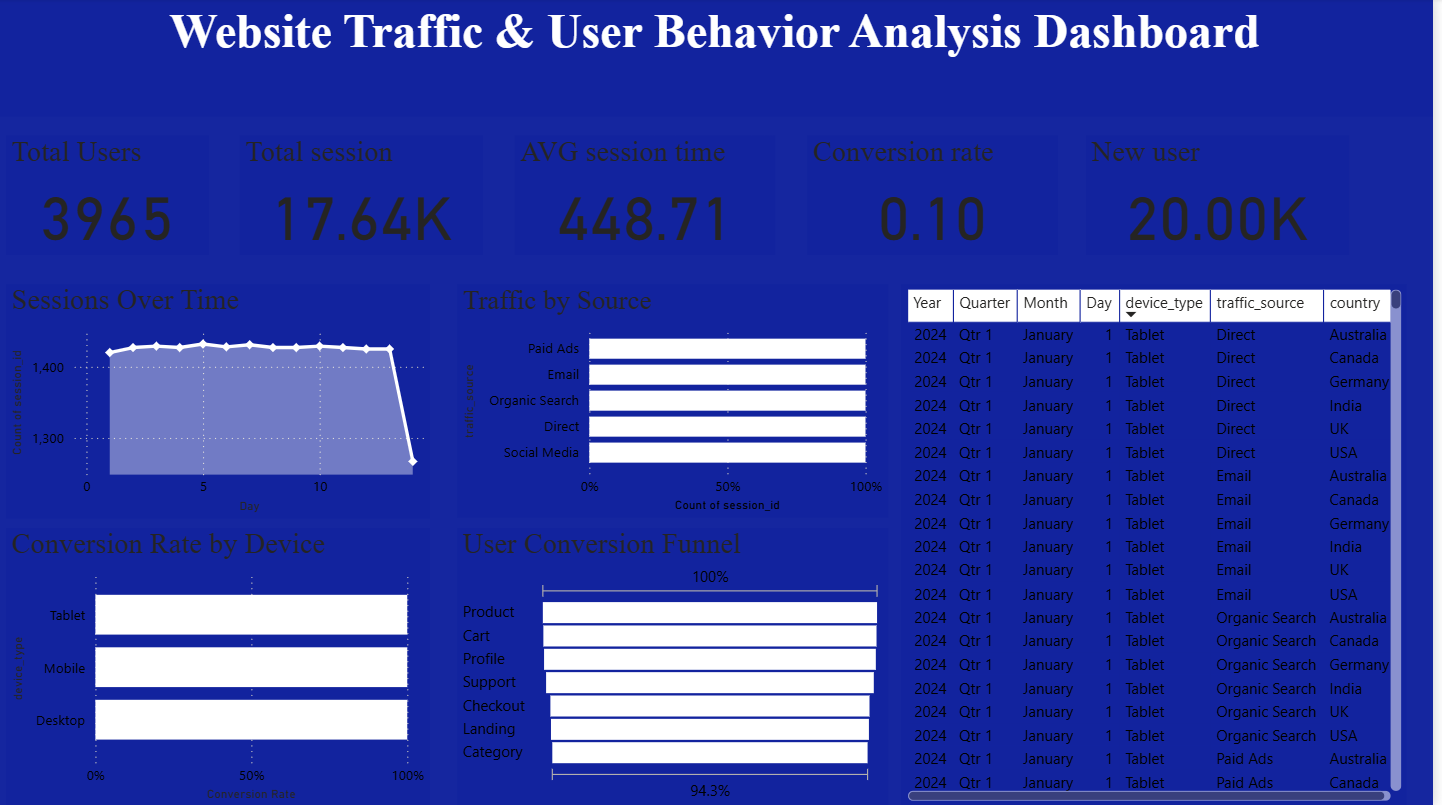

The page's visual inventory and layout, read from the dashboard file:
{"tool":"powerbi","page":{"name":"Page 1","canvas":[1280,720],"ordinal":0},"visuals":[{"type":"card","title":"Total Users","fields":{"Values":["Count(clean_website_traffic.user_id)"]},"box":[8.4,122.2,181,106.7],"z":0},{"type":"card","title":"Total session","fields":{"Values":["Count(clean_website_traffic.session_id)"]},"box":[217.2,122.7,217.2,106.7],"z":1},{"type":"card","title":"AVG session time","fields":{"Values":["clean_website_traffic.Avg Session Time"]},"box":[461.7,122.6,232.3,106.8],"z":2},{"type":"card","title":"Conversion rate","fields":{"Values":["clean_website_traffic.Conversion Rate"]},"box":[722.7,122.7,223.3,106.7],"z":4},{"type":"card","title":"New user","fields":{"Values":["CountNonNull(clean_website_traffic.is_new_user)"]},"box":[970.6,122.7,234.4,106.7],"z":5},{"type":"tableEx","fields":{"Values":["clean_website_traffic.date.Variation.Date Hierarchy.Year","clean_website_traffic.date.Variation.Date Hierarchy.Quarter","clean_website_traffic.date.Variation.Date Hierarchy.Month","clean_website_traffic.date.Variation.Date Hierarchy.Day","clean_website_traffic.device_type","clean_website_traffic.traffic_source","clean_website_traffic.country"]},"box":[806.1,255.2,450.3,465],"z":7},{"type":"lineChart","title":"Sessions Over Time","fields":{"Category":["clean_website_traffic.day.Variation.Date Hierarchy.Day"],"Y":["Count(clean_website_traffic.session_id)"]},"box":[8.4,255.3,377.5,208.5],"z":8},{"type":"hundredPercentStackedBarChart","title":"Traffic by Source","fields":{"Category":["clean_website_traffic.traffic_source"],"Y":["CountNonNull(clean_website_traffic.session_id)"]},"box":[411.2,255.4,383.8,207.8],"z":9},{"type":"hundredPercentStackedBarChart","title":"Conversion Rate by Device","fields":{"Category":["clean_website_traffic.device_type"],"Y":["clean_website_traffic.Conversion Rate"]},"box":[8.4,472.2,377.5,248.1],"z":10},{"type":"funnel","title":"User Conversion Funnel","fields":{"Category":["clean_website_traffic.page"],"Y":["Count(clean_website_traffic.session_id)"]},"box":[411,472.4,384.1,247.9],"z":11},{"type":"textbox","box":[0,0,1280,105.5],"z":12}]}

Visuals, with their boxes in screenshot pixels (x1, y1, x2, y2), scaled from the page's 1280x720 canvas onto the 1442x805 screenshot:
"Total Users" card: box(9, 137, 213, 256)
"Total session" card: box(245, 137, 489, 256)
"AVG session time" card: box(520, 137, 782, 256)
"Conversion rate" card: box(814, 137, 1066, 256)
"New user" card: box(1093, 137, 1358, 256)
tableEx - clean_website_traffic.date.Variation.Date Hierarchy.Year x clean_website_traffic.date.Variation.Date Hierarchy.Quarter: box(908, 285, 1415, 804)
"Sessions Over Time" lineChart: box(9, 285, 435, 519)
"Traffic by Source" hundredPercentStackedBarChart: box(463, 286, 896, 518)
"Conversion Rate by Device" hundredPercentStackedBarChart: box(9, 528, 435, 804)
"User Conversion Funnel" funnel: box(463, 528, 896, 804)
textbox: box(0, 0, 1441, 118)
